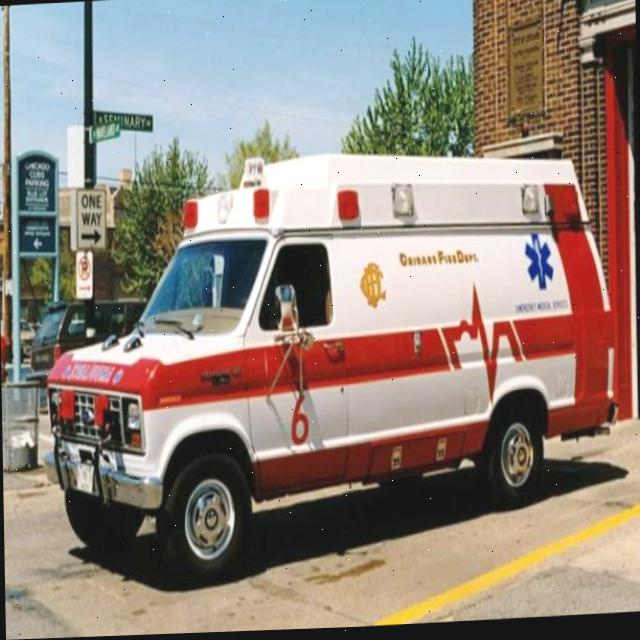emergency: (38, 127, 628, 596)
